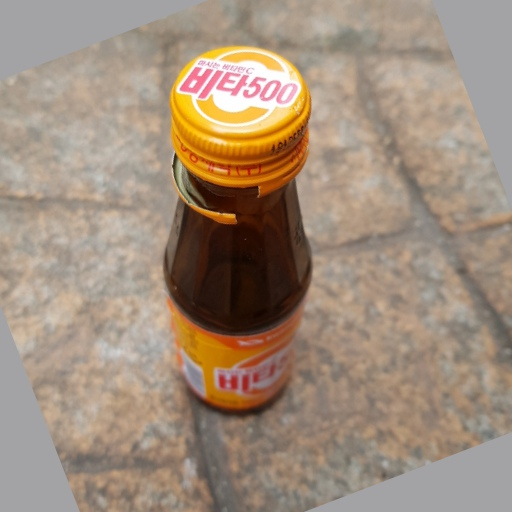Glass_3: (158, 44, 321, 412)
